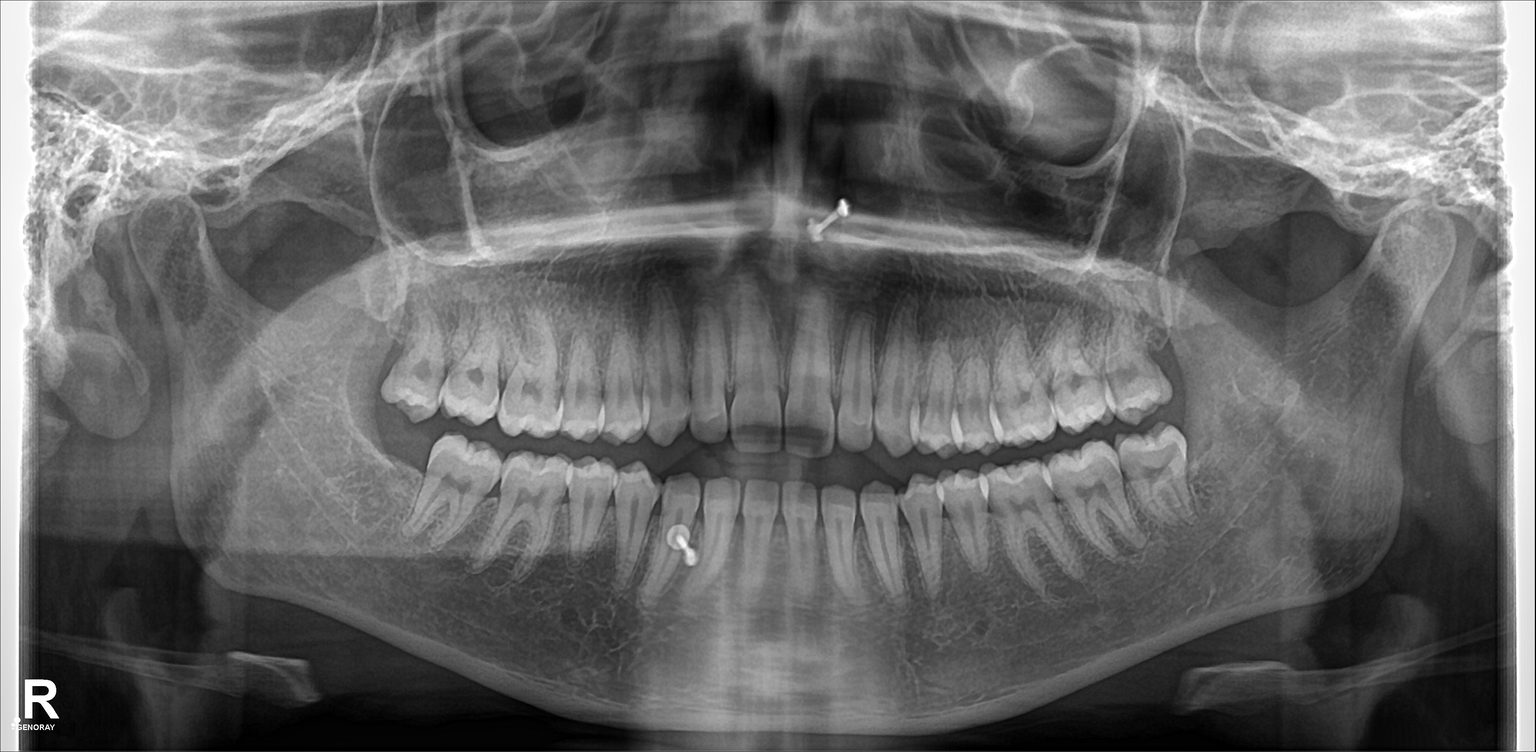Dental Caries: (782, 424, 827, 457), (737, 419, 782, 447)
Endodontically Treated Tooth: (659, 482, 696, 602)
Missing Tooth: (365, 423, 428, 533)
